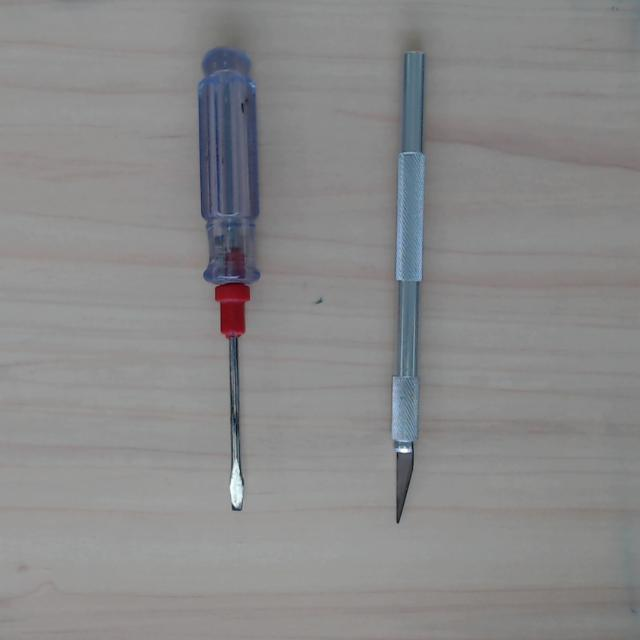Cutter-Kecil: (387, 51, 429, 524)
Obeng-Kecil: (197, 47, 265, 511)
